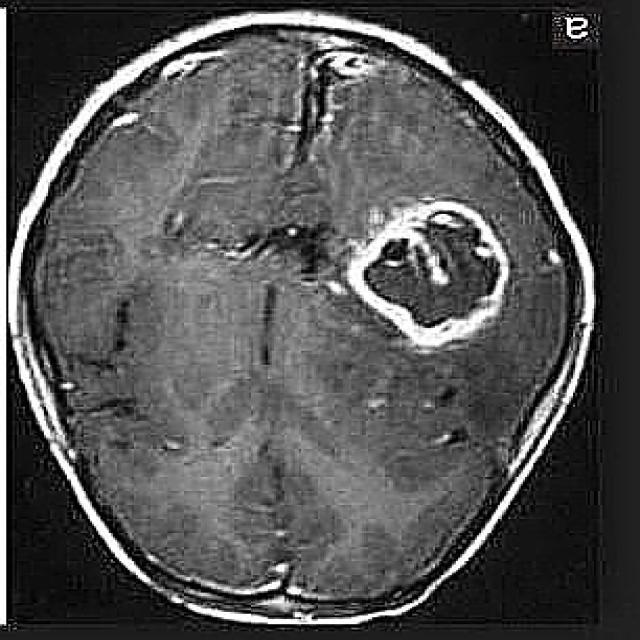Tumor-Cell: (344, 213, 514, 359)
